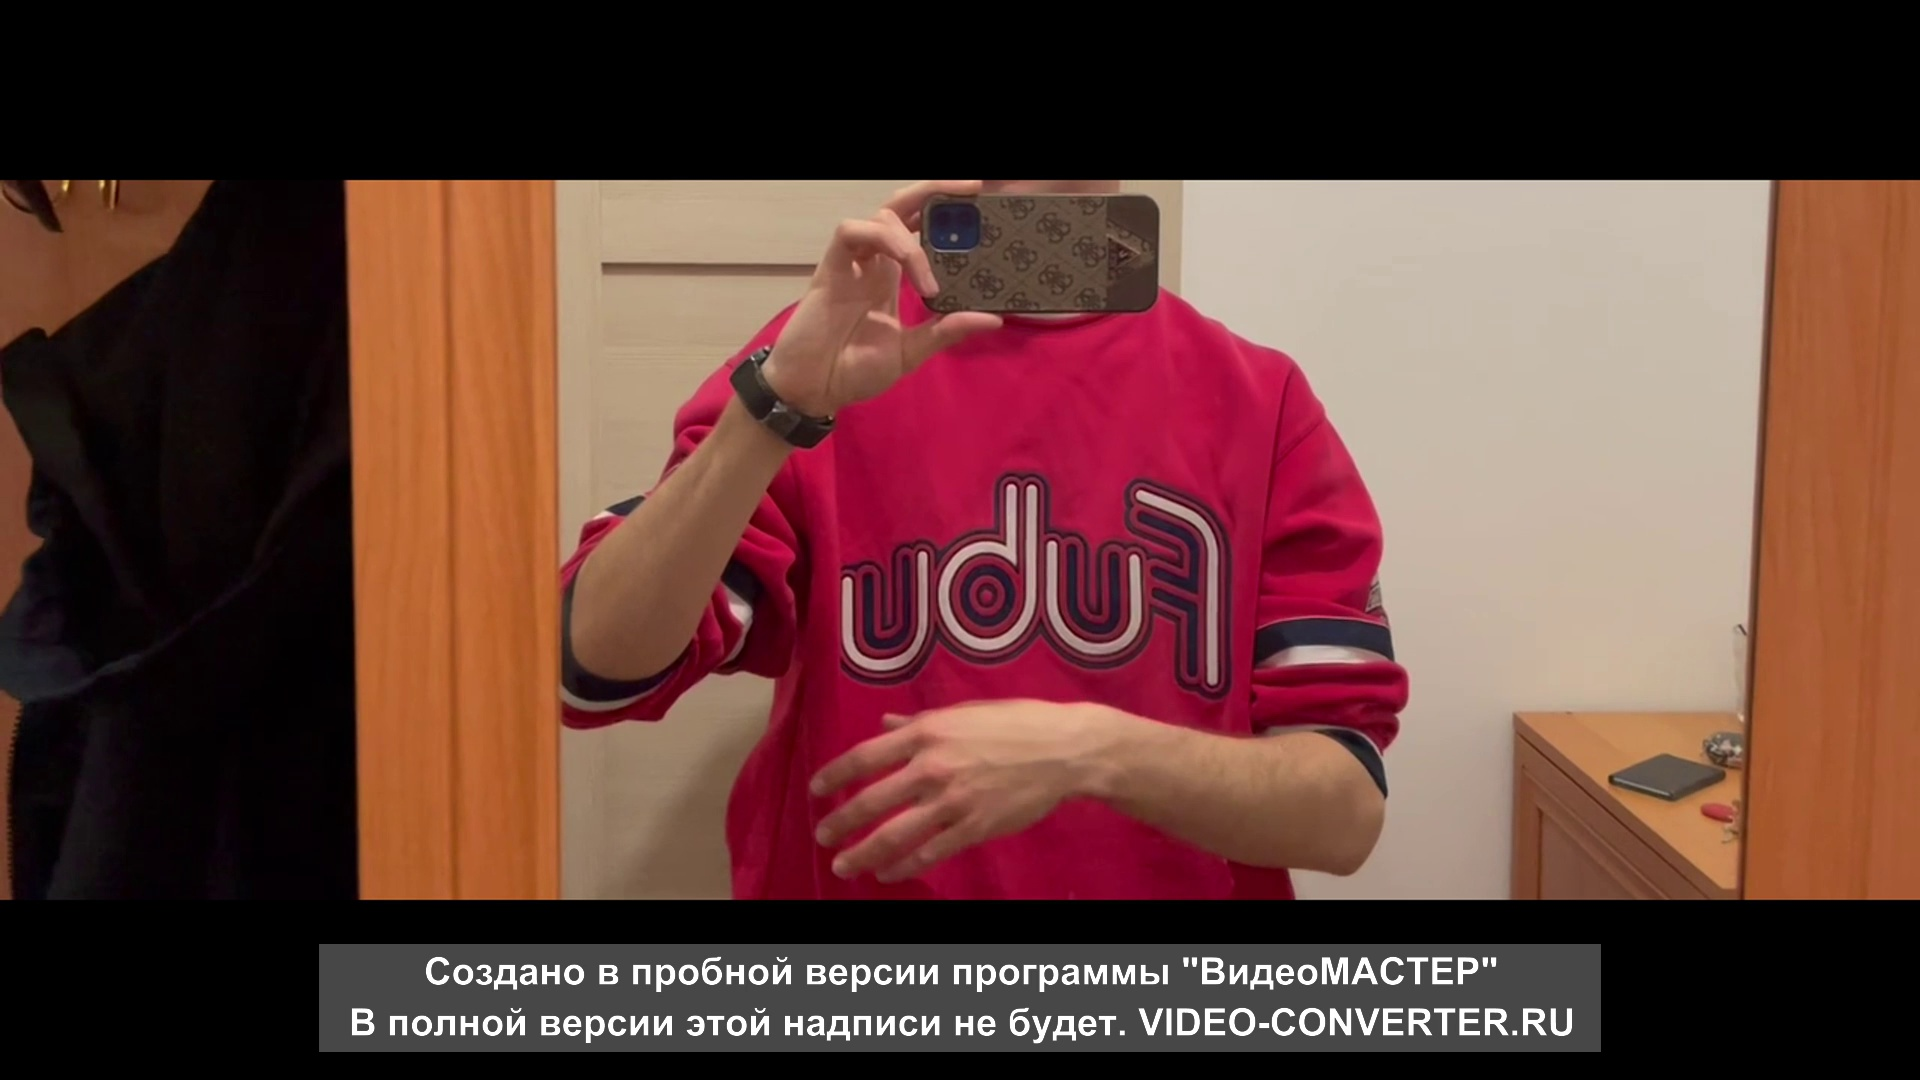Кисть: (812, 700, 1106, 889)
